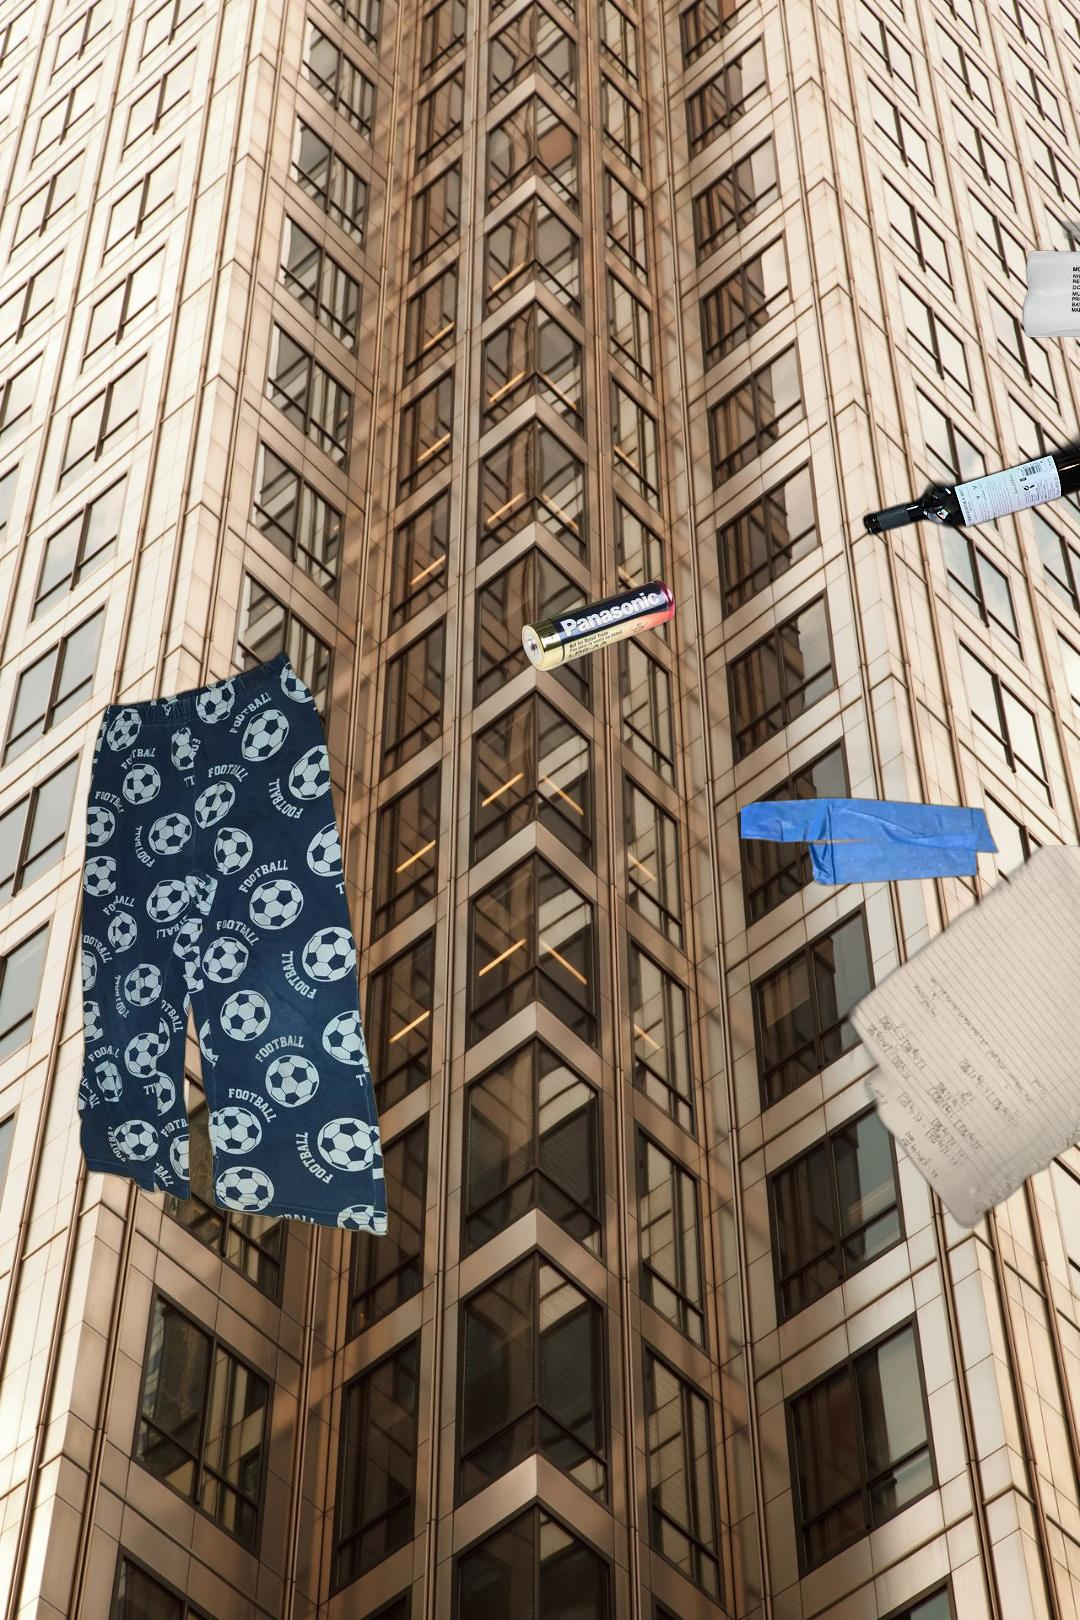battery: (520, 577, 677, 673), (1019, 218, 1080, 340)
clothes: (74, 645, 392, 1242)
glass: (838, 425, 1080, 542)
paper: (837, 845, 1080, 1229)
trashbox-cardboard: (741, 736, 1002, 1088)
